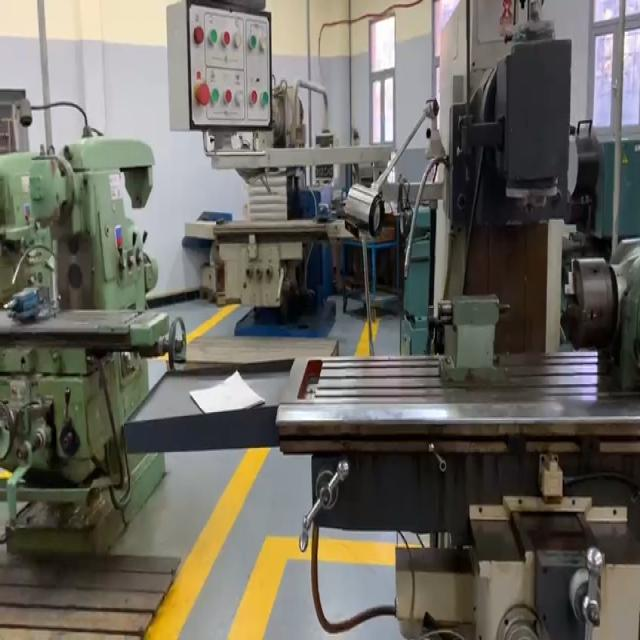fraiseuse: (118, 0, 640, 640)
